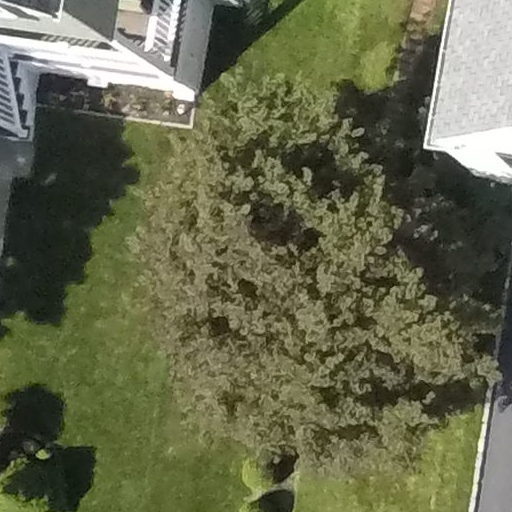flower bed: (33, 56, 203, 128)
